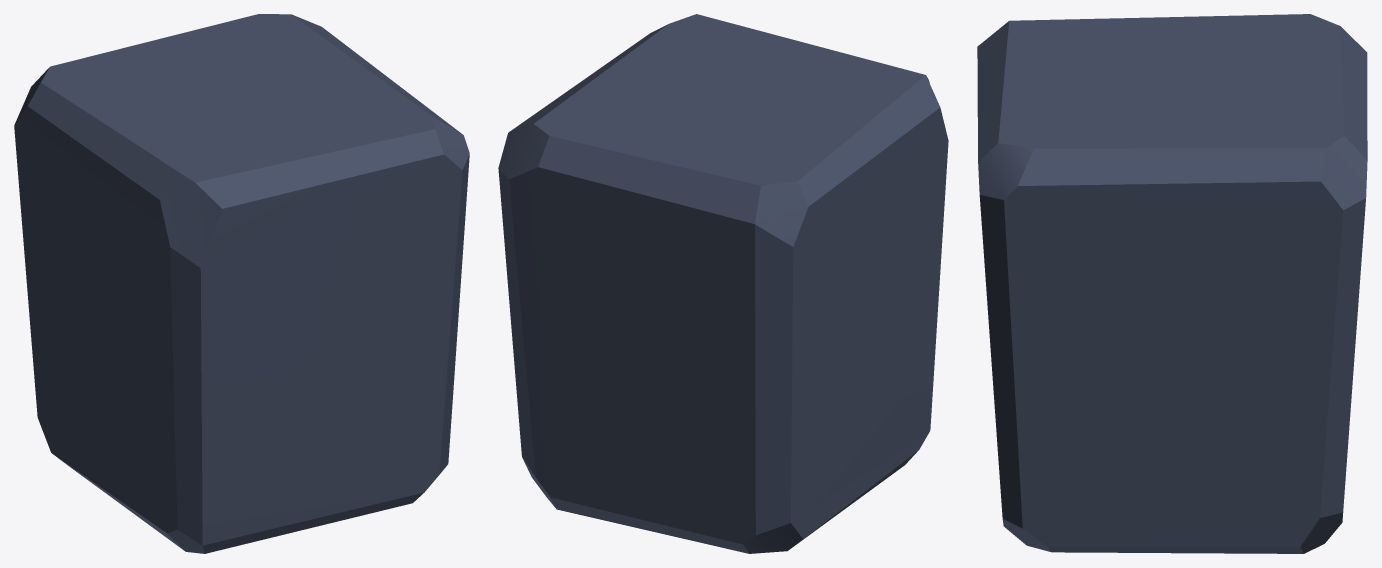
The model's file is Pilier_separateur.fbx.
3 renders of one model, left to right at view 1: azimuth 30°, elevation 25°; view 2: azimuth 150°, elevation 25°; view 3: azimuth 270°, elevation 25°, orthographic. The views are drawn at different scales.
Parts seen in each view (by area): view 1: Pilier_separateur; view 2: Pilier_separateur; view 3: Pilier_separateur.
Boxes of the visible parts, box(x1,y1,x2,y2) form: Pilier_separateur: box(14, 14, 469, 553); Pilier_separateur: box(498, 14, 948, 553); Pilier_separateur: box(977, 14, 1367, 553).
Bounding box in the file's own units: 92.06 × 113 × 97.93.
